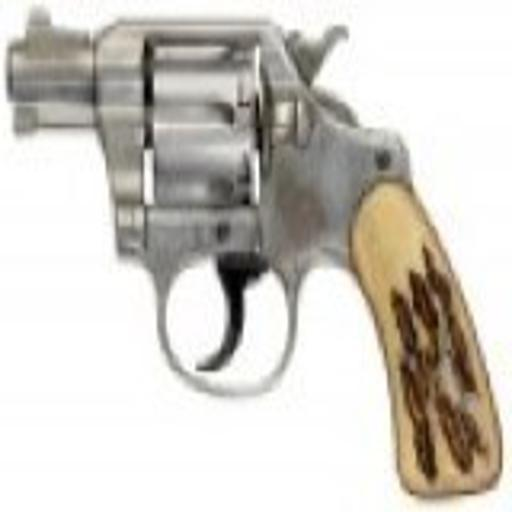Handgun: (5, 7, 501, 493)
